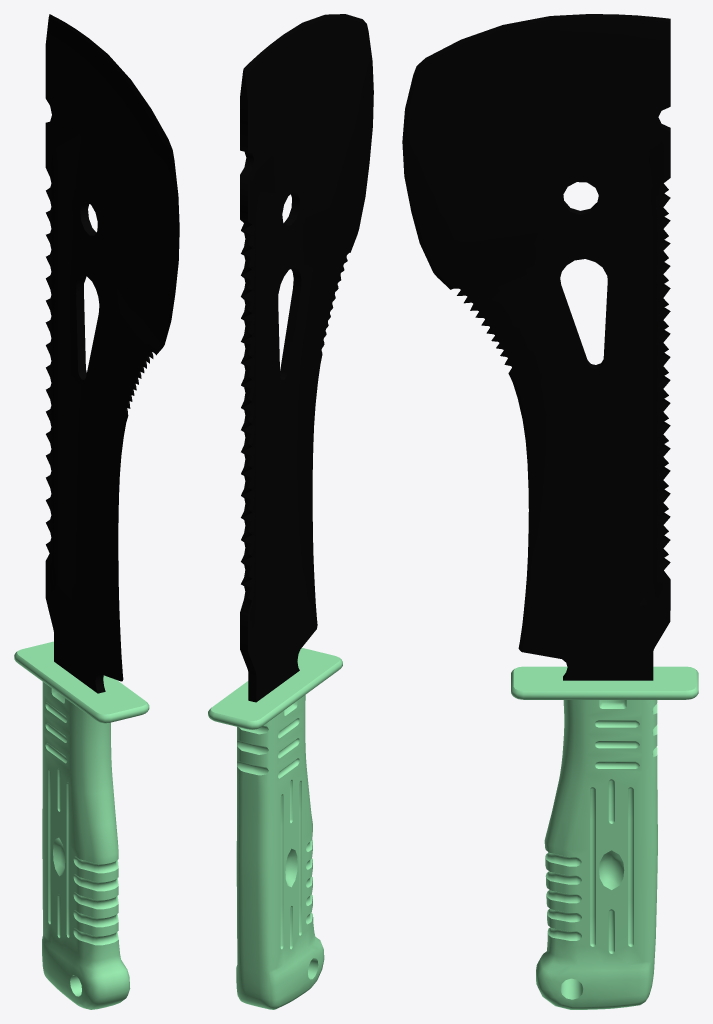
The model's file is Adventure_01_Knife.FBX.
3 views of the same model, side by side, from view 1: azimuth 30°, elevation 25°; view 2: azimuth 150°, elevation 25°; view 3: azimuth 270°, elevation 25° (orthographic). The views are drawn at different scales.
Visible parts, largest first — view 1: Knife_Mesh; view 2: Knife_Mesh; view 3: Knife_Mesh.
Part boxes in pixels (<box>): Knife_Mesh: <box>14,14,179,1009</box>; Knife_Mesh: <box>208,14,373,1009</box>; Knife_Mesh: <box>402,14,698,1009</box>.
Size of the model in its own units: 2.81 by 48.93 by 13.28.
